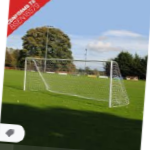goals: (21, 55, 130, 110)
